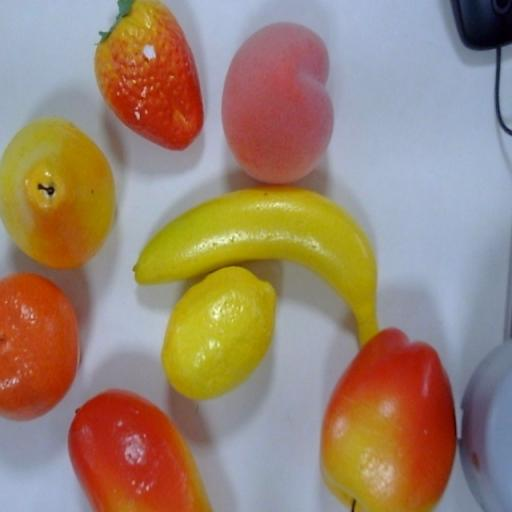Ripe: (130, 178, 407, 332), (321, 307, 470, 512), (218, 22, 348, 208), (2, 94, 119, 292), (69, 375, 232, 512), (86, 0, 212, 158), (157, 274, 290, 404), (0, 268, 99, 431)
